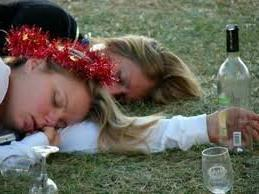Drunk: (10, 73, 90, 130)
